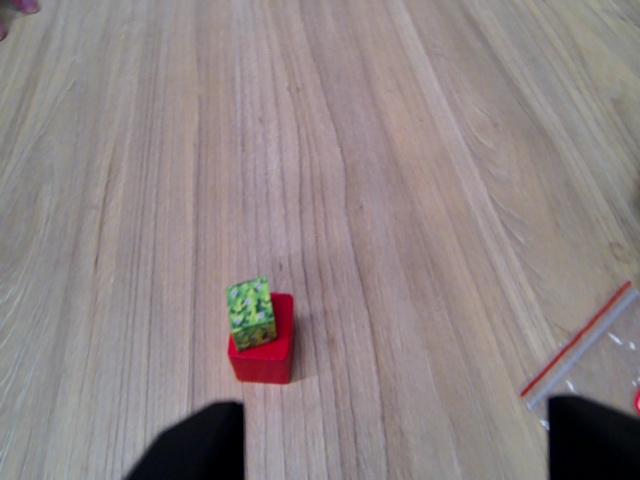grass: (217, 284, 279, 347)
